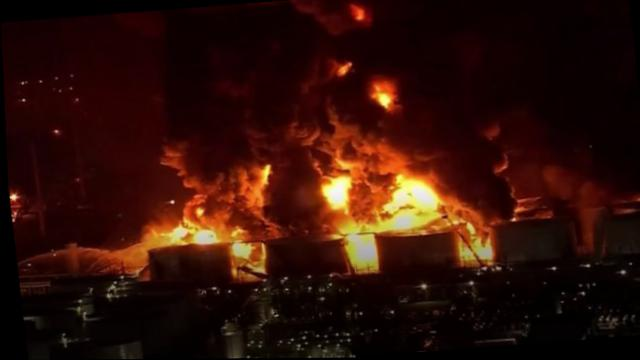fire: (343, 226, 374, 266), (315, 176, 350, 211), (404, 179, 439, 213), (457, 240, 491, 263), (385, 211, 419, 228), (184, 230, 217, 245), (392, 174, 405, 207), (373, 89, 390, 114), (163, 225, 185, 243), (230, 240, 249, 260), (335, 63, 353, 81), (352, 7, 365, 26), (260, 163, 271, 184)
smoke: (148, 0, 336, 166), (368, 110, 508, 175), (336, 87, 376, 223), (438, 172, 519, 222), (271, 159, 319, 232), (174, 164, 257, 204), (205, 199, 273, 229), (470, 221, 488, 232)
